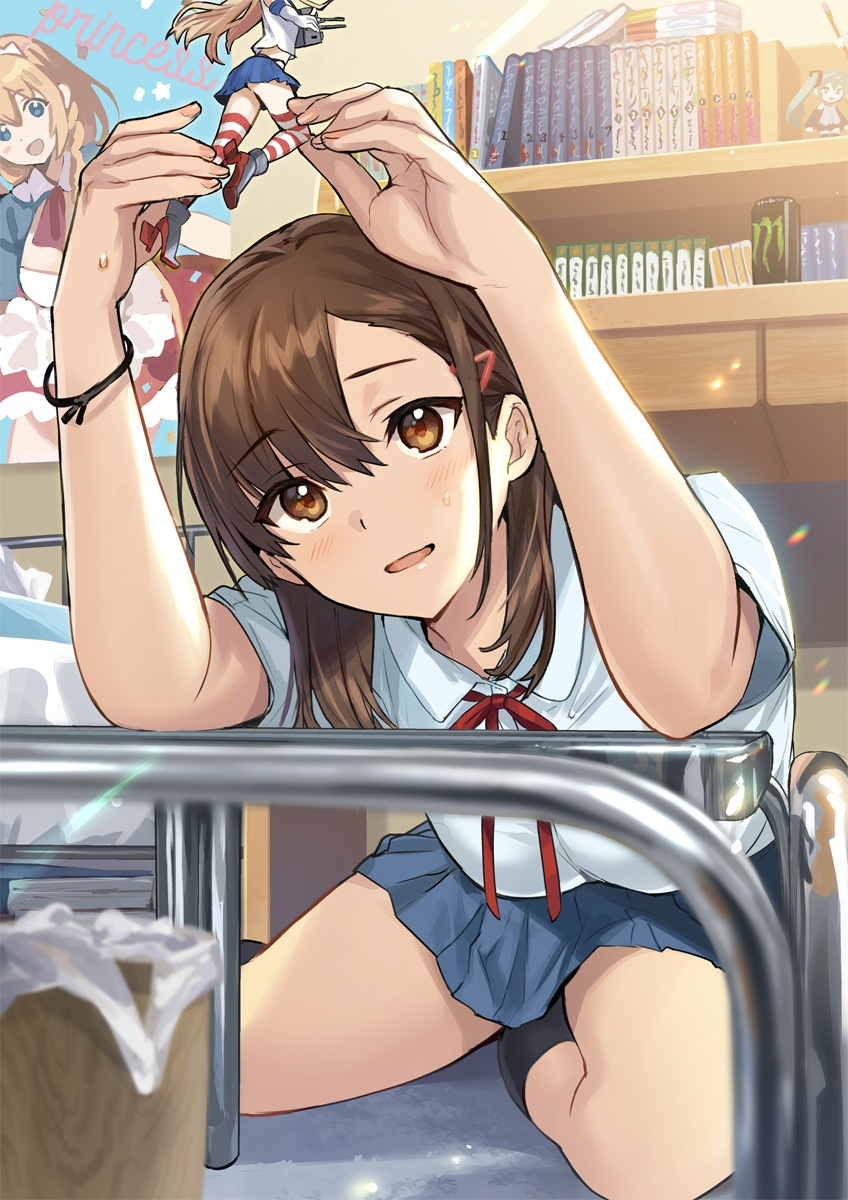纸片人正脸: (166, 210, 549, 611)
